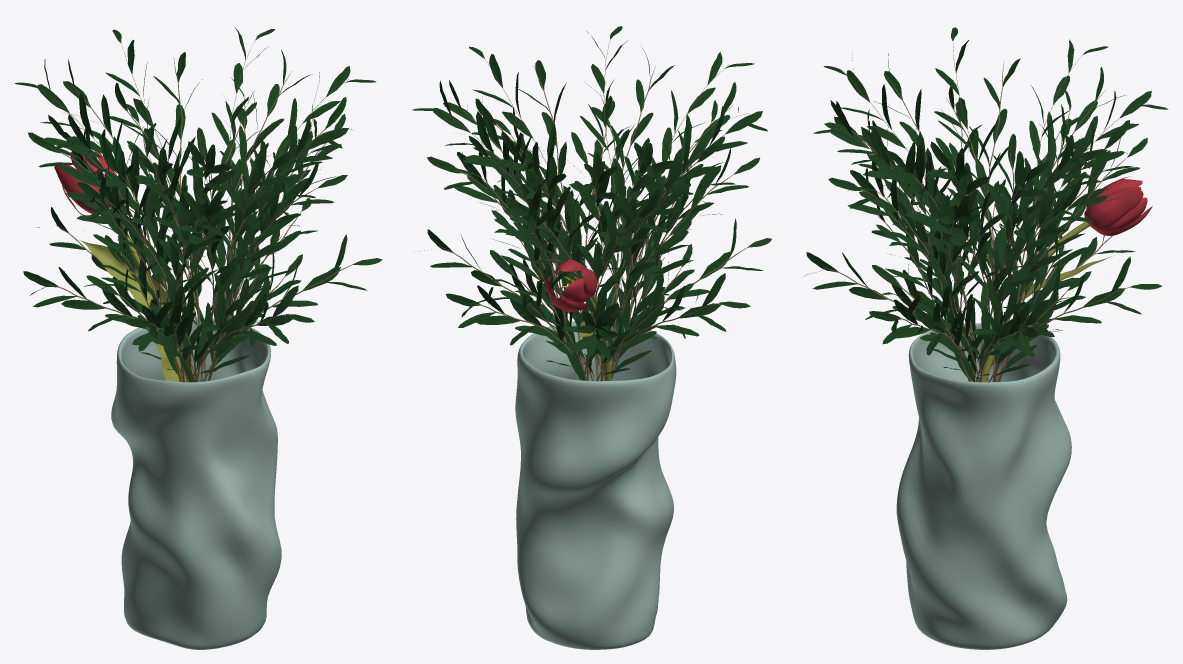
File: bouquet_1734889559910.glb
The picture shows the model from 3 angles, left to right: view 1: azimuth 30°, elevation 25°; view 2: azimuth 150°, elevation 25°; view 3: azimuth 270°, elevation 25°; orthographic projection.
Bounding box in the file's own units: 1.81 × 3 × 1.84.
